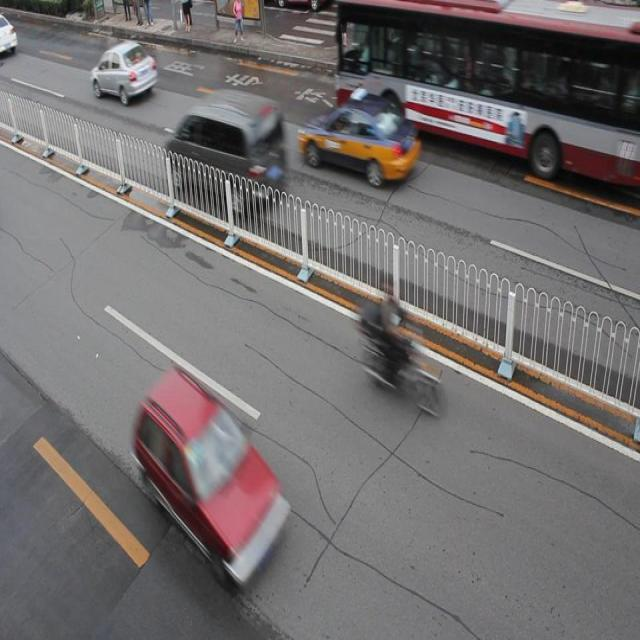car: (134, 367, 286, 580), (298, 92, 418, 185), (90, 39, 158, 102), (1, 14, 18, 56)
truck: (166, 90, 285, 211)
van: (335, 1, 640, 185)
